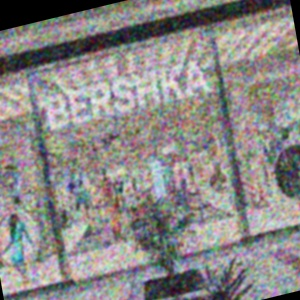bershka: (165, 9, 247, 93)
